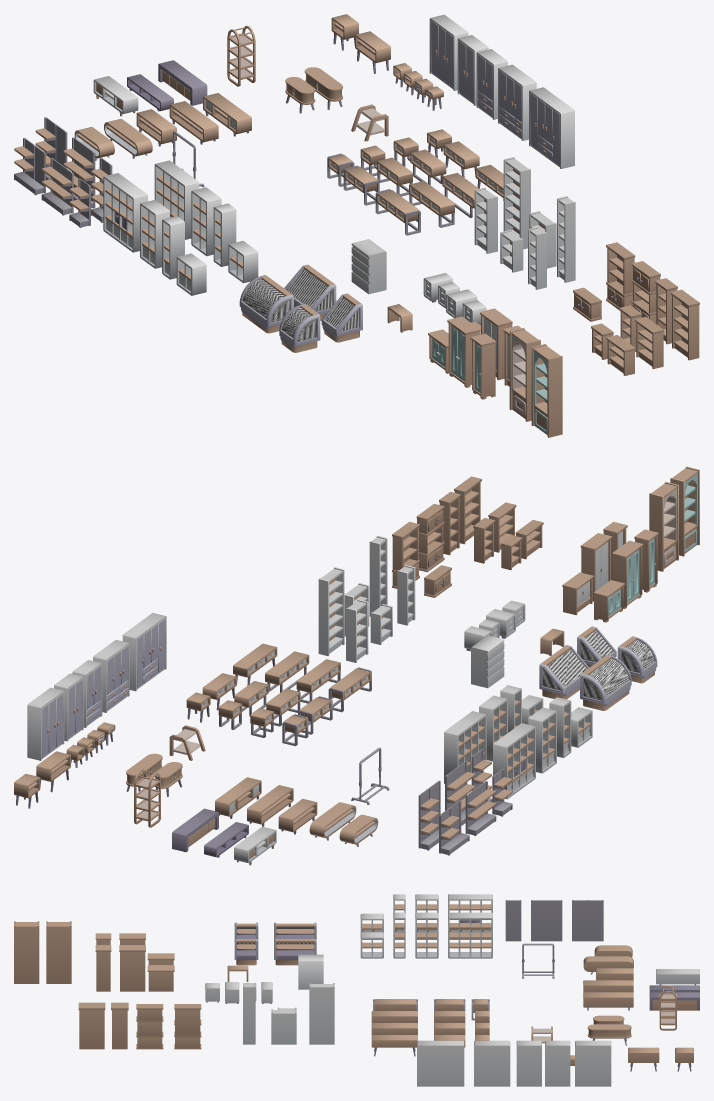
File: cabinets.glb
3 views of the same model, one above another, from view 1: azimuth 30°, elevation 25°; view 2: azimuth 150°, elevation 25°; view 3: azimuth 270°, elevation 25° (orthographic). The views are drawn at different scales.
Parts seen in each view (by area): view 1: cabinet-clothing-widest, cabinet-bookcase-arch-front, cabinet-squares-doors-large, cabinet-clothing-drawers-wide, cabinet-bookcase, cabinet-bookcase-arch, cabinet-squares-large, cabinet-clothing-wide, cabinet-bookcase-classic, cabinet-drawers, cabinet-bookcase-narrow, cabinet-squares-medium (+54 smaller); view 2: cabinet-clothing-widest, cabinet-clothing-wide, cabinet-bookcase, cabinet-bookcase-arch, cabinet-squares-doors-large, cabinet-squares-large, cabinet-clothing-drawers-wide, cabinet-bookcase-arch-front, cabinet-drawers, cabinet-bookcase-narrow, retail-shelf-wide-half, cabinet-clothing (+54 smaller); view 3: cabinet-clothing-widest, cabinet-clothing-drawers-wide, cabinet-clothing-wide, cabinet-squares-large, cabinet-bookcase-arch-front, cabinet-bookcase-arch, cabinet-bookcase, retail-shelf-wide-half, retail-shelf-wide, cabinet-bookcase-classic-doors-top, cabinet-bookcase-classic-doors, cabinet-clothing-double (+43 smaller).
Part boxes in pixels (x1,y1,x2,y2): cabinet-clothing-widest: (529,87,574,168); cabinet-bookcase-arch-front: (531,344,562,437); cabinet-squares-doors-large: (103,173,147,252); cabinet-clothing-drawers-wide: (498,64,536,140); cabinet-bookcase: (503,157,530,249); cabinet-bookcase-arch: (509,328,540,421); cabinet-squares-large: (154,160,199,239); cabinet-clothing-wide: (429,14,468,90); cabinet-bookcase-classic: (670,289,699,360); cabinet-drawers: (351,239,386,294); cabinet-bookcase-narrow: (557,196,575,282); cabinet-squares-medium: (191,187,221,256); cabinet-clothing-widest: (122,613,166,691); cabinet-clothing-wide: (27,687,64,760); cabinet-bookcase: (318,567,344,656); cabinet-bookcase-arch: (649,482,678,571); cabinet-squares-doors-large: (493,723,535,799); cabinet-squares-large: (444,711,486,783); cabinet-clothing-drawers-wide: (93,640,129,712); cabinet-bookcase-arch-front: (670,466,699,556); cabinet-drawers: (471,635,504,688); cabinet-bookcase-narrow: (369,536,387,616); retail-shelf-wide-half: (418,780,440,850); cabinet-clothing: (54,673,83,741); cabinet-clothing-widest: (417,1040,464,1086); cabinet-clothing-drawers-wide: (474,1040,510,1086); cabinet-clothing-wide: (575,1040,611,1086); cabinet-squares-large: (448,912,492,958); cabinet-bookcase-arch-front: (14,921,39,983); cabinet-bookcase-arch: (46,921,71,983); cabinet-bookcase: (309,983,334,1044); retail-shelf-wide-half: (572,900,603,941); retail-shelf-wide: (531,900,562,941); cabinet-bookcase-classic-doors-top: (136,1004,163,1049); cabinet-bookcase-classic-doors: (174,1004,201,1049); cabinet-clothing-double: (119,945,145,991).
Size of the model in its own units: 11.77 by 2.02 by 21.71.
Materials: 2 (1 with a texture image).
